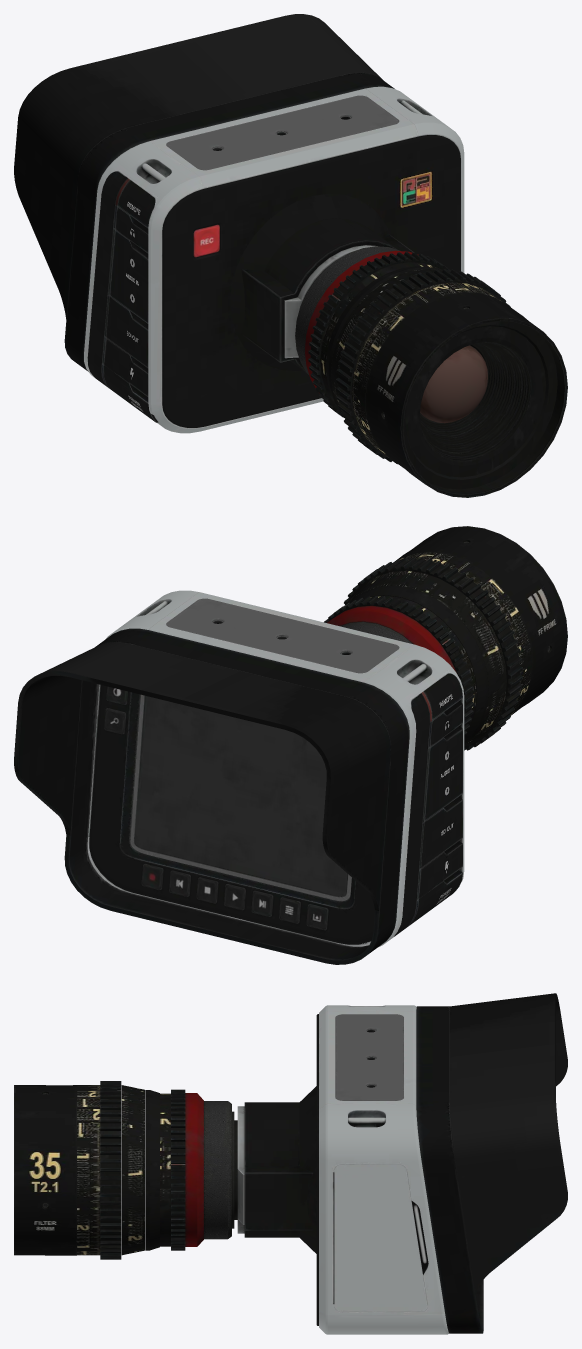
Rendered from camara.glb.
3 views of the same model, one above another, from view 1: azimuth 30°, elevation 25°; view 2: azimuth 150°, elevation 25°; view 3: azimuth 270°, elevation 25° (orthographic). The views are drawn at different scales.
Visible parts, largest first — view 1: body.019_low_18, case_2_low_27, lenses_low_40, body.001_low_41, case_1_low_26, body.022_low_21, lenses.002_low_29, lenses.010_low_37, lenses.003_low_30, body.006_low_5, lenses.006_low_33, body.010_low_9 (+12 smaller); view 2: case_2_low_27, body.004_low_3, case_1_low_26, body.002_low_1, body.001_low_41, lenses_low_40, body.022_low_21, lenses.001_low_28, lenses.002_low_29, body.005_low_4, body.006_low_5, lenses.004_low_31 (+13 smaller); view 3: case_2_low_27, body.001_low_41, body.020_low_19, case_1_low_26, body.019_low_18, lenses_low_40, body.022_low_21, lenses.003_low_30, lenses.001_low_28, lenses.002_low_29, lenses.008_low_35, lenses.007_low_34 (+5 smaller).
Boxes of the visible parts, <box> form: body.019_low_18: <box>162,135,460,427</box>; case_2_low_27: <box>14,14,383,318</box>; lenses_low_40: <box>365,292,567,497</box>; body.001_low_41: <box>84,86,464,433</box>; case_1_low_26: <box>64,73,394,371</box>; body.022_low_21: <box>166,95,399,170</box>; lenses.002_low_29: <box>335,269,510,464</box>; lenses.010_low_37: <box>420,345,487,423</box>; lenses.003_low_30: <box>351,282,503,458</box>; body.006_low_5: <box>87,171,127,387</box>; lenses.006_low_33: <box>308,252,450,417</box>; body.010_low_9: <box>109,230,148,323</box>; case_2_low_27: <box>14,642,390,910</box>; body.004_low_3: <box>134,695,348,896</box>; case_1_low_26: <box>64,628,409,964</box>; body.002_low_1: <box>89,685,374,944</box>; body.001_low_41: <box>87,590,464,946</box>; lenses_low_40: <box>397,526,567,715</box>; body.022_low_21: <box>166,598,399,673</box>; lenses.001_low_28: <box>348,570,506,746</box>; lenses.002_low_29: <box>344,557,522,750</box>; body.005_low_4: <box>141,863,328,930</box>; body.006_low_5: <box>394,693,430,936</box>; lenses.004_low_31: <box>349,585,488,743</box>; case_2_low_27: <box>449,993,567,1294</box>; body.001_low_41: <box>319,1005,448,1334</box>; body.020_low_19: <box>334,1164,427,1311</box>; case_1_low_26: <box>416,1006,483,1333</box>; body.019_low_18: <box>244,1014,318,1325</box>; lenses_low_40: <box>14,1085,76,1255</box>; body.022_low_21: <box>335,1014,403,1100</box>; lenses.003_low_30: <box>77,1085,100,1255</box>; lenses.001_low_28: <box>121,1085,144,1255</box>; lenses.002_low_29: <box>100,1081,121,1259</box>; lenses.008_low_35: <box>204,1101,230,1239</box>; lenses.007_low_34: <box>185,1093,203,1246</box>.
Size of what is drawn, in the model's own units: 0.2437 by 0.2004 by 0.4209.
Materials: 3 (3 with a texture image).
